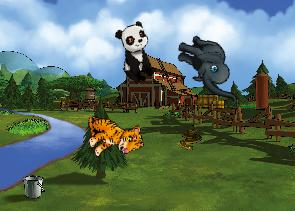elephant: (168, 32, 249, 103)
panda: (112, 20, 160, 86)
tiger: (82, 106, 145, 162)
